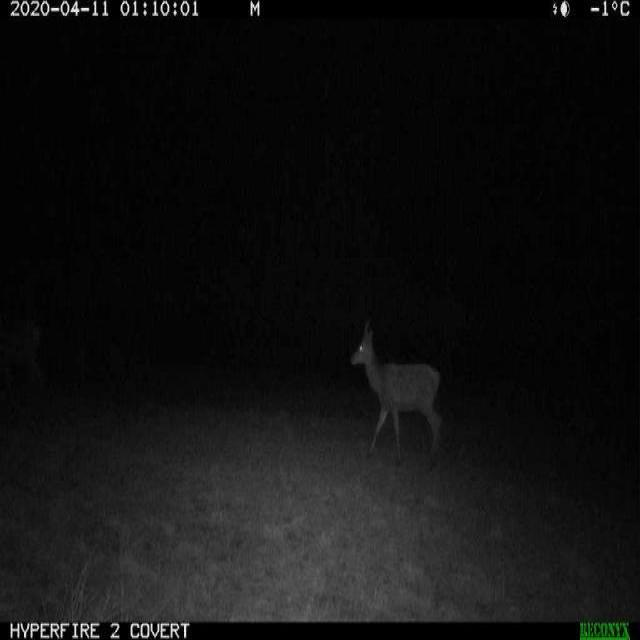deer: (338, 316, 449, 479), (17, 277, 108, 432)
